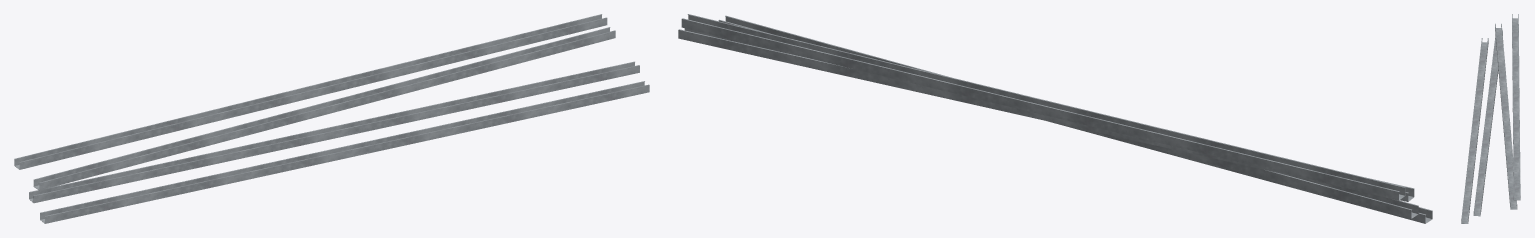
Rendered from ALV-DRY-004_anim.glb.
3 renders of one model, left to right at view 1: azimuth 30°, elevation 25°; view 2: azimuth 150°, elevation 25°; view 3: azimuth 270°, elevation 25°, orthographic. The views are drawn at different scales.
Parts seen in each view (by area): view 1: ALV-DRY-004_anim0, ALV-DRY-004_anim1, ALV-DRY-004_anim3, ALV-DRY-004_anim2; view 2: ALV-DRY-004_anim3, ALV-DRY-004_anim2, ALV-DRY-004_anim1, ALV-DRY-004_anim0; view 3: ALV-DRY-004_anim0, ALV-DRY-004_anim2, ALV-DRY-004_anim3, ALV-DRY-004_anim1.
Part boxes in pixels (x1,y1,x2,y2): ALV-DRY-004_anim0: (40, 81, 649, 223); ALV-DRY-004_anim1: (29, 61, 639, 203); ALV-DRY-004_anim3: (14, 14, 607, 169); ALV-DRY-004_anim2: (33, 27, 615, 190); ALV-DRY-004_anim3: (681, 14, 1405, 200); ALV-DRY-004_anim2: (678, 28, 1414, 201); ALV-DRY-004_anim1: (718, 15, 1418, 218); ALV-DRY-004_anim0: (1048, 121, 1432, 223); ALV-DRY-004_anim0: (1461, 38, 1488, 223); ALV-DRY-004_anim2: (1495, 23, 1517, 209); ALV-DRY-004_anim3: (1512, 14, 1520, 200); ALV-DRY-004_anim1: (1473, 30, 1502, 216).
Size of the model in its own units: 3.03 by 0.215 by 0.4134.
Materials: 1 (1 with a texture image).
